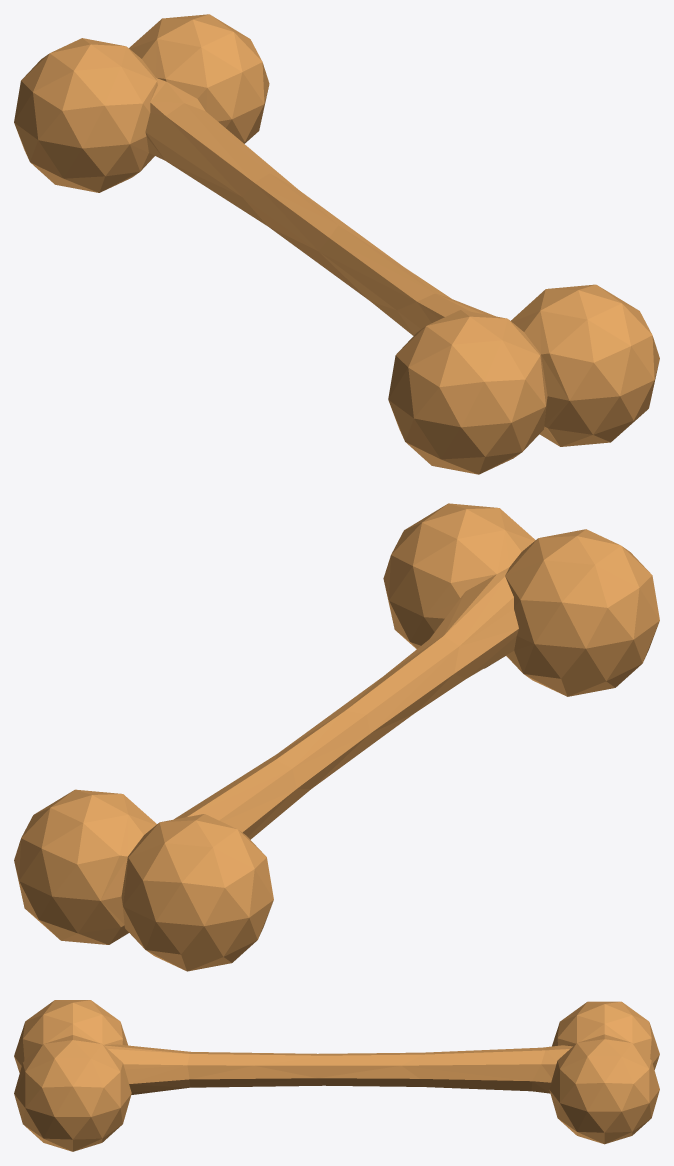
Rendered from Bone 01.fbx.
The picture shows the model from 3 angles, top to bottom: view 1: azimuth 30°, elevation 25°; view 2: azimuth 150°, elevation 25°; view 3: azimuth 270°, elevation 25°; orthographic projection. The views are drawn at different scales.
Visible parts, largest first — view 1: Bone 01; view 2: Bone 01; view 3: Bone 01.
Part boxes in pixels (x1,y1,x2,y2): Bone 01: [14, 14, 659, 474]; Bone 01: [14, 503, 659, 971]; Bone 01: [14, 1000, 659, 1151].
Bounding box in the file's own units: 7.65 × 4.5 × 24.66.
